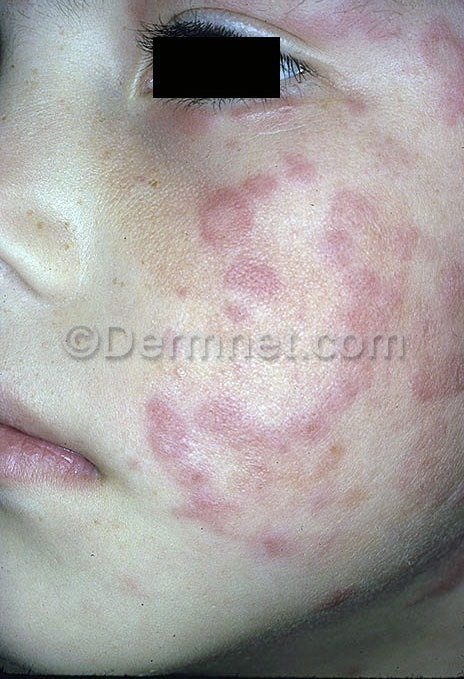Melasma: (159, 0, 464, 55)
